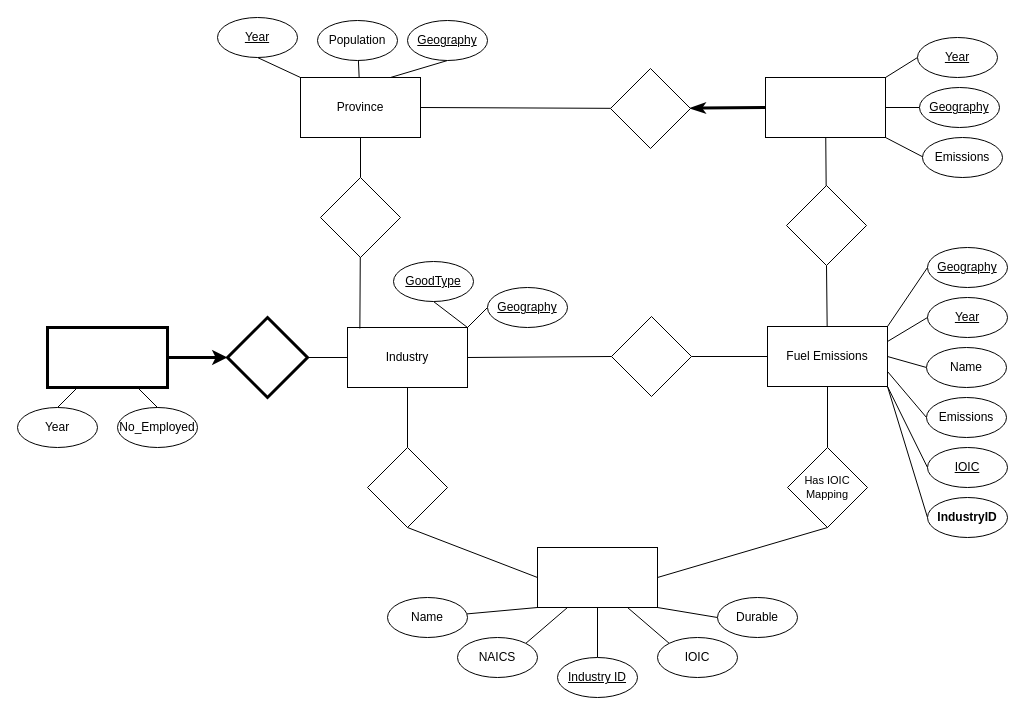
Image size: 1025x715. Some labels were removed from this diagram. The shapes that lost their labels are listed below. From the top down, each one's box as (x1, y1, x2, y2) in pixels, then its label:
(610, 68, 690, 148): LocatedIn
(764, 76, 886, 138): Household
(320, 176, 400, 258): Invests In
(786, 184, 866, 266): Produces
(46, 326, 168, 388): Employee
(226, 316, 308, 398): Works in
(610, 316, 692, 396): Generates
(366, 446, 448, 528): Has NAICS Mapping
(536, 546, 658, 608): Industry Mapping
